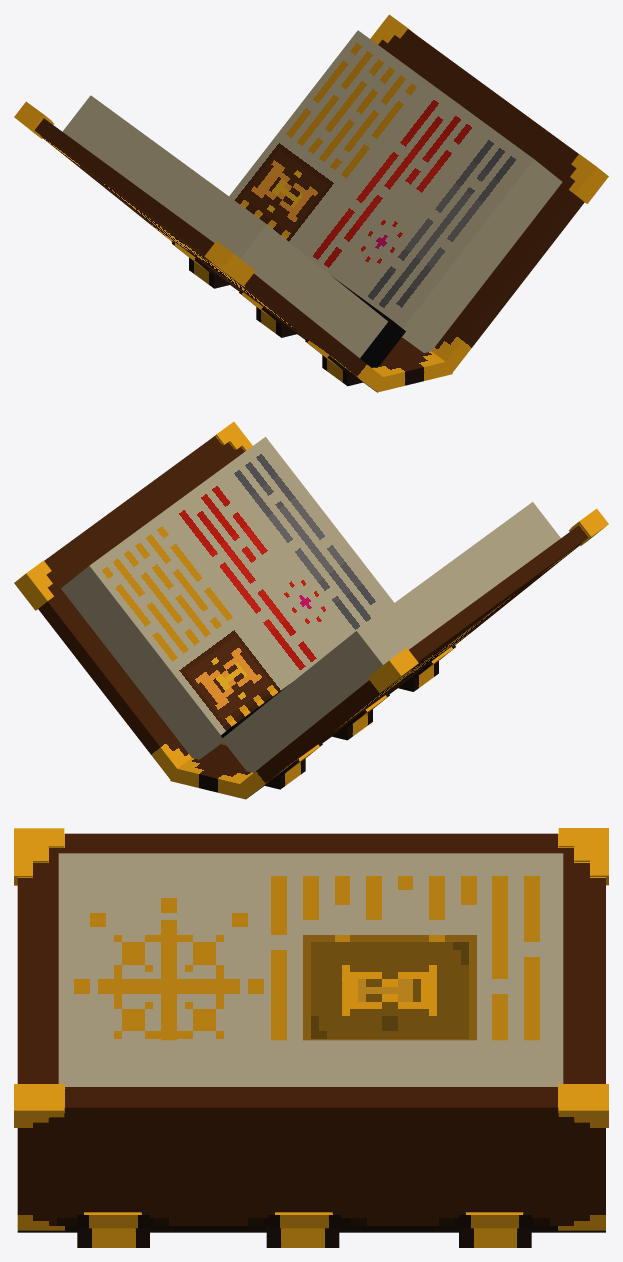
The model's file is golden_academy_book_ia.glb.
The picture shows the model from 3 angles, top to bottom: view 1: azimuth 30°, elevation 25°; view 2: azimuth 150°, elevation 25°; view 3: azimuth 270°, elevation 25°; orthographic projection. The views are drawn at different scales.
Visible parts, largest first — view 1: cube_1, cube_0, cube_3, cube_2, cube_4, cube_6, cube_23, cube_22, cube_17; view 2: cube_1, cube_0, cube_3, cube_2, cube_4, cube_17, cube_26; view 3: cube_0, cube_3, cube_2, cube_1, cube_26, cube_30, cube_29, cube_31, cube_32, cube_33, cube_34, cube_4 (+7 smaller).
Boxes of the visible parts, x1=… form: cube_1: x1=229, y1=30, x2=562, y2=352; cube_0: x1=62, y1=95, x2=388, y2=357; cube_3: x1=378, y1=29, x2=584, y2=373; cube_2: x1=34, y1=118, x2=386, y2=392; cube_4: x1=172, y1=242, x2=452, y2=392; cube_6: x1=360, y1=319, x2=405, y2=367; cube_23: x1=569, y1=162, x2=608, y2=203; cube_22: x1=215, y1=249, x2=255, y2=286; cube_17: x1=14, y1=101, x2=51, y2=136; cube_1: x1=61, y1=437, x2=394, y2=759; cube_0: x1=222, y1=502, x2=560, y2=772; cube_3: x1=38, y1=435, x2=244, y2=780; cube_2: x1=236, y1=525, x2=588, y2=799; cube_4: x1=170, y1=683, x2=404, y2=799; cube_17: x1=381, y1=647, x2=418, y2=681; cube_26: x1=14, y1=560, x2=51, y2=592; cube_0: x1=58, y1=853, x2=563, y2=1040; cube_3: x1=17, y1=1087, x2=605, y2=1230; cube_2: x1=17, y1=833, x2=605, y2=1083; cube_1: x1=58, y1=1040, x2=563, y2=1086; cube_26: x1=558, y1=1084, x2=608, y2=1116; cube_30: x1=266, y1=1226, x2=339, y2=1247; cube_29: x1=77, y1=1228, x2=149, y2=1247; cube_31: x1=459, y1=1228, x2=531, y2=1247; cube_32: x1=268, y1=1212, x2=340, y2=1228; cube_33: x1=459, y1=1212, x2=531, y2=1228; cube_34: x1=77, y1=1212, x2=149, y2=1228; cube_4: x1=17, y1=1230, x2=605, y2=1232.
Size of the model in its own units: 0.6344 by 0.2946 by 0.5895.
Materials: 2 (2 with a texture image).
